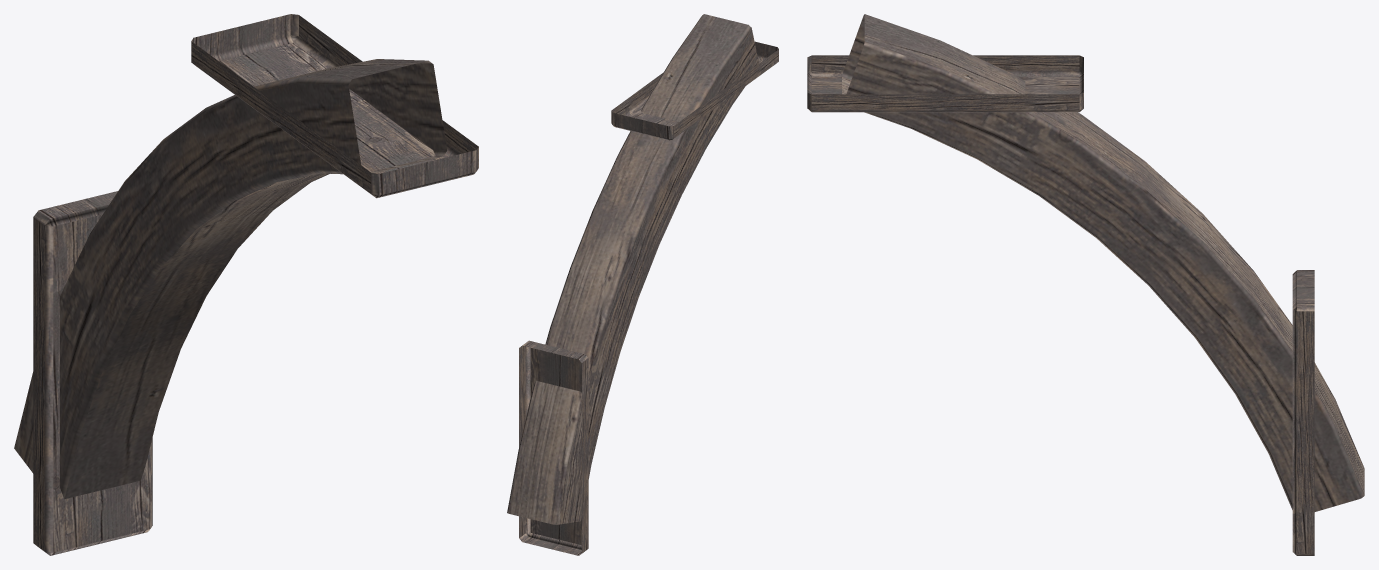
Rendered from IntCeilingPillarBend.FBX.
3 renders of one model, left to right at view 1: azimuth 30°, elevation 25°; view 2: azimuth 150°, elevation 25°; view 3: azimuth 270°, elevation 25°, orthographic. The views are drawn at different scales.
Parts seen in each view (by area): view 1: IntCeilingPillarBend; view 2: IntCeilingPillarBend; view 3: IntCeilingPillarBend.
Boxes of the visible parts, x1=… form: IntCeilingPillarBend: x1=14, y1=14, x2=478, y2=555; IntCeilingPillarBend: x1=507, y1=14, x2=778, y2=555; IntCeilingPillarBend: x1=807, y1=14, x2=1364, y2=555.
Size of the model in its own units: 4.98 by 30.04 by 30.38.
